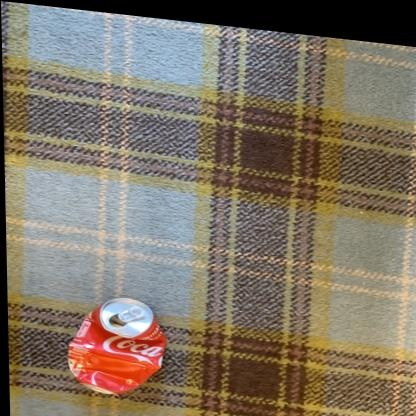trash: (68, 298, 165, 393)
